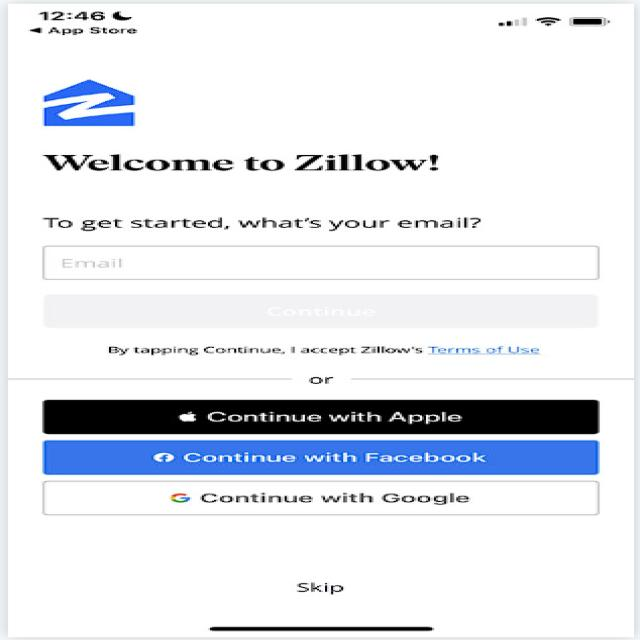button: (38, 286, 615, 334), (24, 478, 619, 524), (21, 392, 612, 437), (23, 435, 614, 478)
input: (32, 235, 615, 286)
text: (32, 138, 456, 183), (32, 203, 508, 240), (73, 336, 557, 364), (298, 577, 379, 600)
